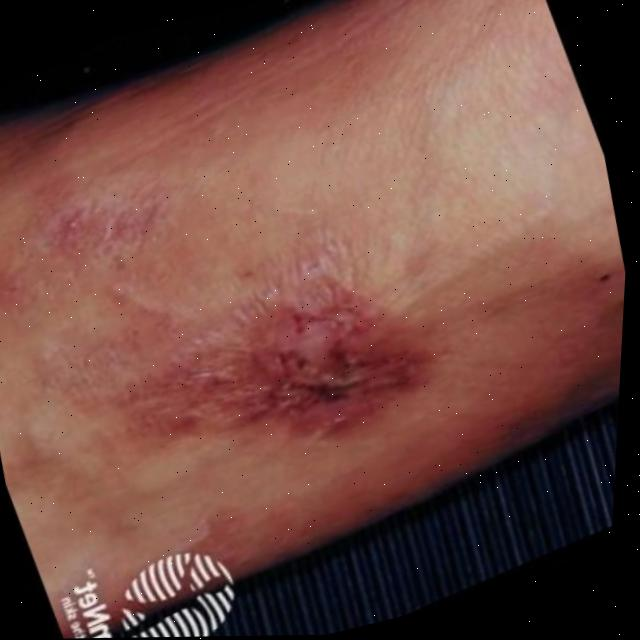Eczema: (171, 268, 445, 484), (42, 202, 141, 270)
